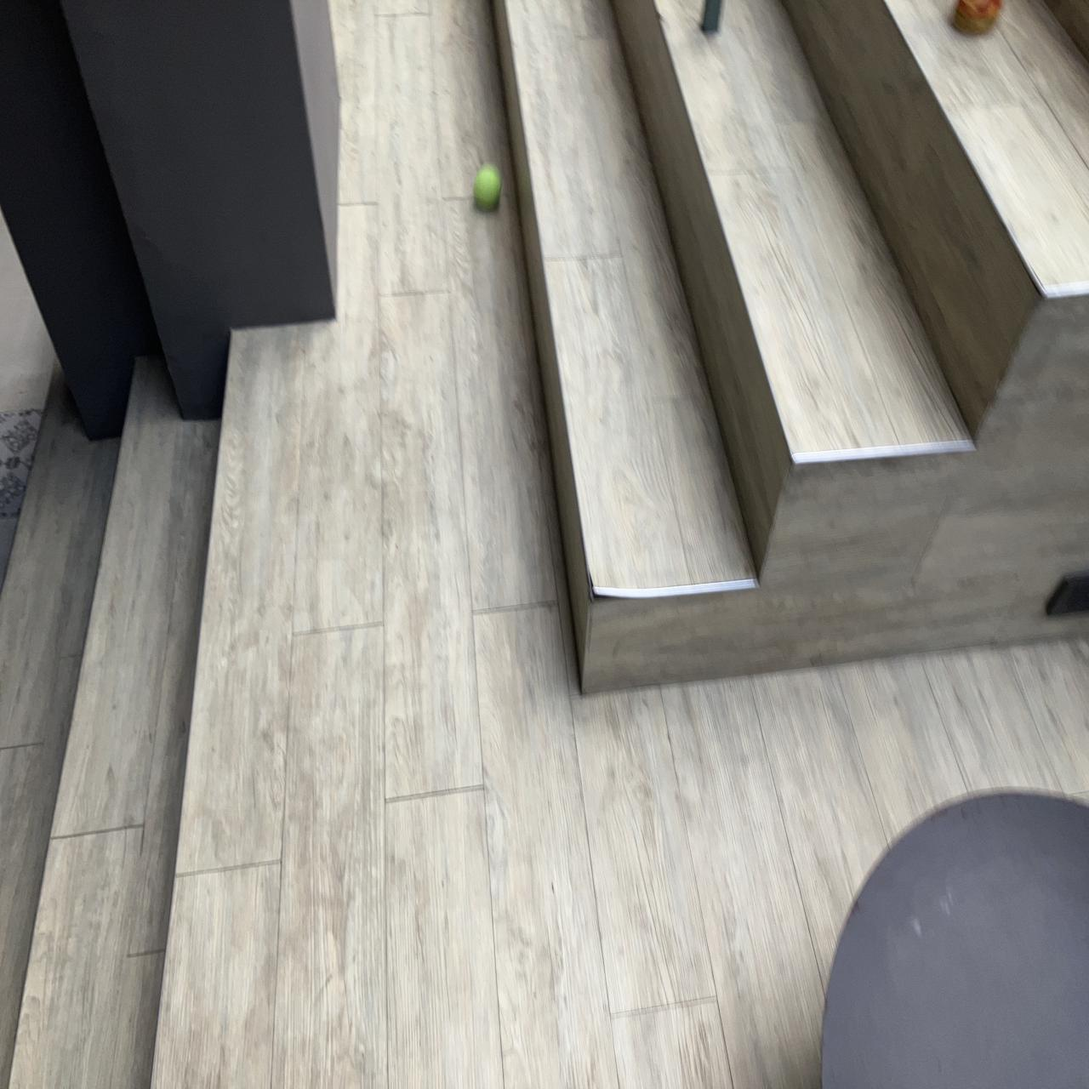tennisball: (474, 164, 500, 211)
